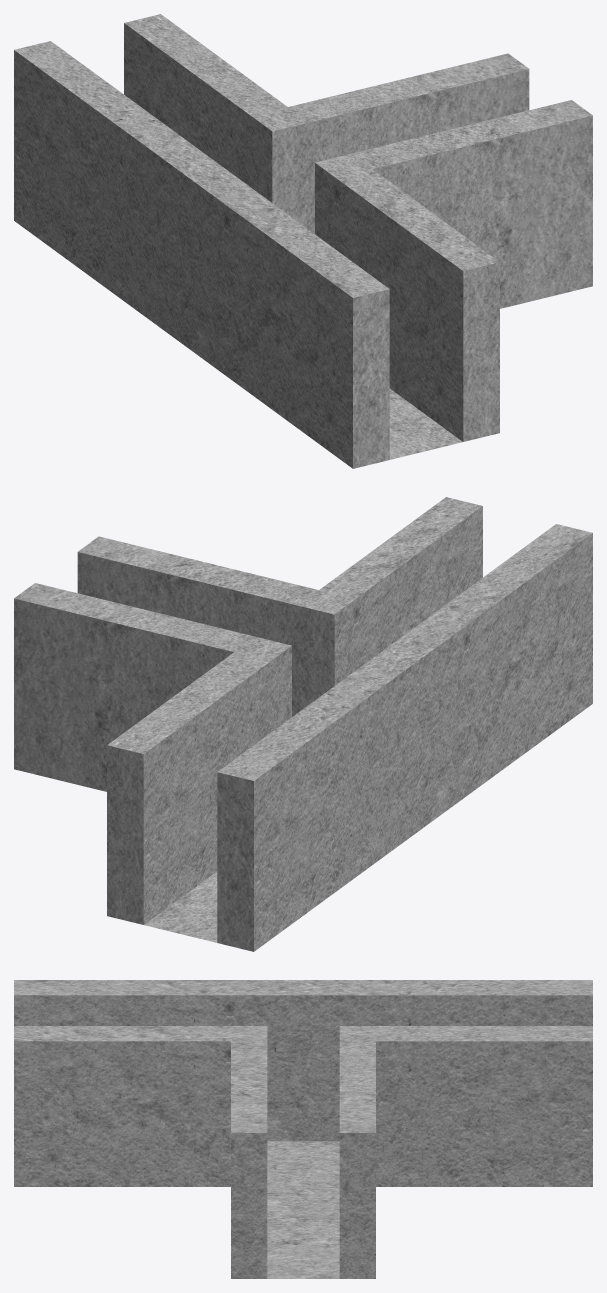
Rendered from 1x1threewayTextured.fbx.
The picture shows the model from 3 angles, top to bottom: view 1: azimuth 30°, elevation 25°; view 2: azimuth 150°, elevation 25°; view 3: azimuth 270°, elevation 25°; orthographic projection. The views are drawn at different scales.
Visible parts, largest first — view 1: Plane.001; view 2: Plane.001; view 3: Plane.001.
Boxes of the visible parts, x1,y1,x2,y2 form: Plane.001: (14,14,592,468); Plane.001: (14,497,592,951); Plane.001: (14,980,592,1278).
Size of the model in its own units: 31.25 by 13.9 by 50.
1 material, 1 textured.
